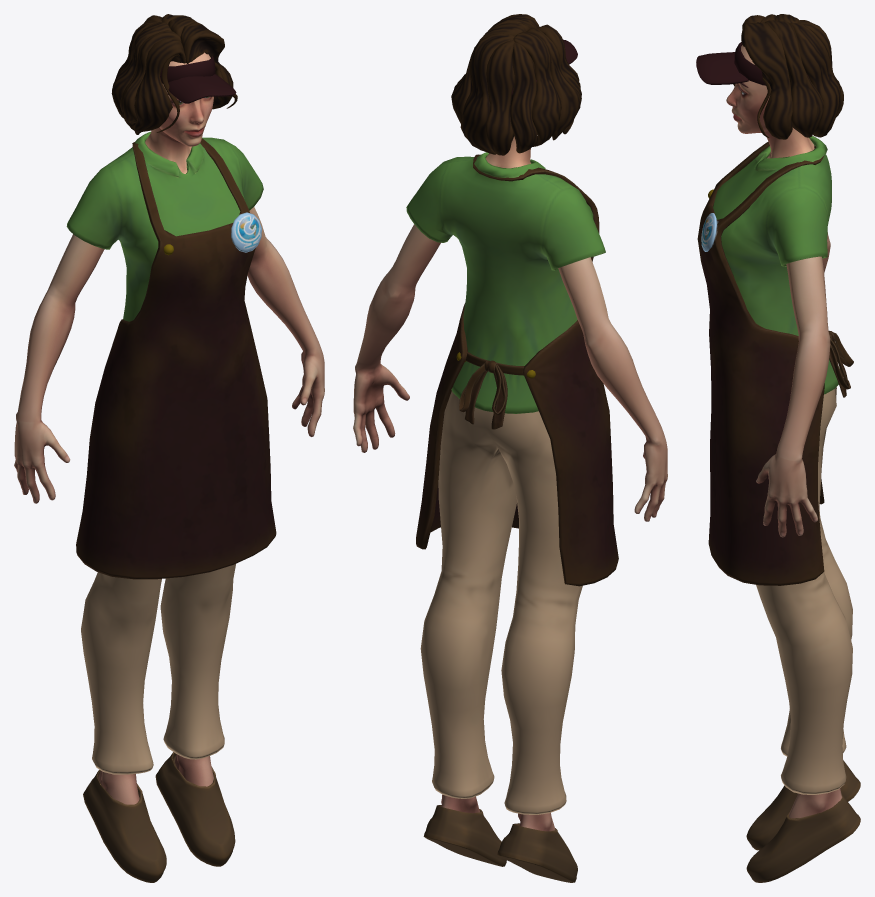
Rendered from Barista_Female_Fix.fbx.
3 renders of one model, left to right at view 1: azimuth 30°, elevation 25°; view 2: azimuth 150°, elevation 25°; view 3: azimuth 270°, elevation 25°, orthographic.
Visible parts, largest first — view 1: apron, pants, female_cafe_low, cloth, shoes, hair1, hair8, hat3, hair2, hair3, brooch, hat4; view 2: pants, cloth, apron, female_cafe_low, shoes, hair5, hair6, hair3, hair4, knot2, hair2, hair7 (+1 smaller); view 3: apron, pants, cloth, female_cafe_low, shoes, hair8, hair7, hair6, hat3, knot2, hat4, hair5 (+1 smaller).
Boxes of the visible parts, x1,y1,x2,y2 form: apron: (76,138,276,579); pants: (81,564,235,774); female_cafe_low: (14,52,324,804); cloth: (66,131,263,321); shoes: (83,752,235,882); hair1: (134,37,185,134); hair8: (180,22,233,109); hat3: (168,74,236,103); hair2: (120,30,181,130); hair3: (111,21,171,118); brooch: (231,212,261,252); hat4: (160,56,215,83); pants: (420,391,582,814); cloth: (406,152,605,413); apron: (416,154,618,586); female_cafe_low: (353,136,667,831); shoes: (423,805,577,882); hair5: (486,40,514,155); hair6: (460,33,514,154); hair3: (513,32,561,146); hair4: (510,42,537,153); knot2: (459,363,507,429); hair2: (526,27,581,140); hair7: (451,22,529,123); apron: (697,136,824,585); pants: (756,387,852,794); cloth: (713,136,839,394); female_cafe_low: (726,45,842,818); shoes: (746,760,860,882); hair8: (741,22,792,139); hair7: (764,20,823,137); hair6: (790,23,840,137); hat3: (696,52,748,84); knot2: (829,332,853,397); hat4: (734,42,810,85); hair5: (797,22,843,117).
Size of the model in its own units: 76.76 by 204 by 35.98.
